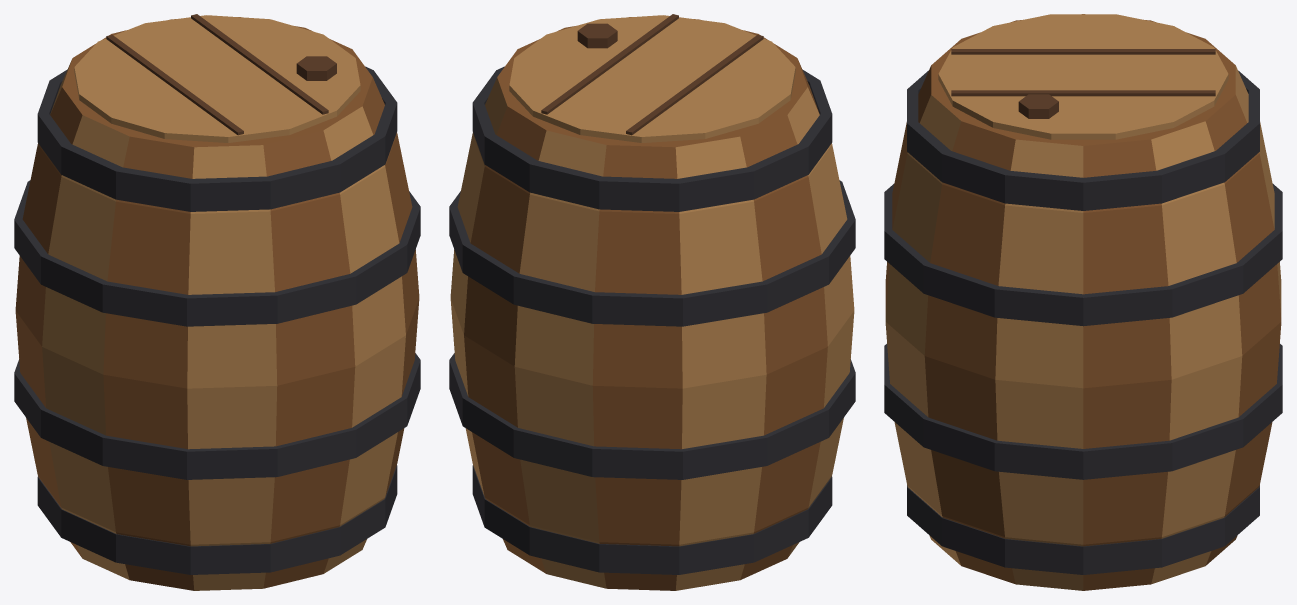
Rendered from barrel.glb.
The picture shows the model from 3 angles, left to right: view 1: azimuth 30°, elevation 25°; view 2: azimuth 150°, elevation 25°; view 3: azimuth 270°, elevation 25°; orthographic projection.
Visible parts, largest first — view 1: barrel; view 2: barrel; view 3: barrel.
Boxes of the visible parts, x1=… form: barrel: x1=14, y1=14, x2=420, y2=590; barrel: x1=449, y1=14, x2=855, y2=590; barrel: x1=884, y1=14, x2=1282, y2=590.
Size of the model in its own units: 0.9161 by 1.14 by 0.8931.
